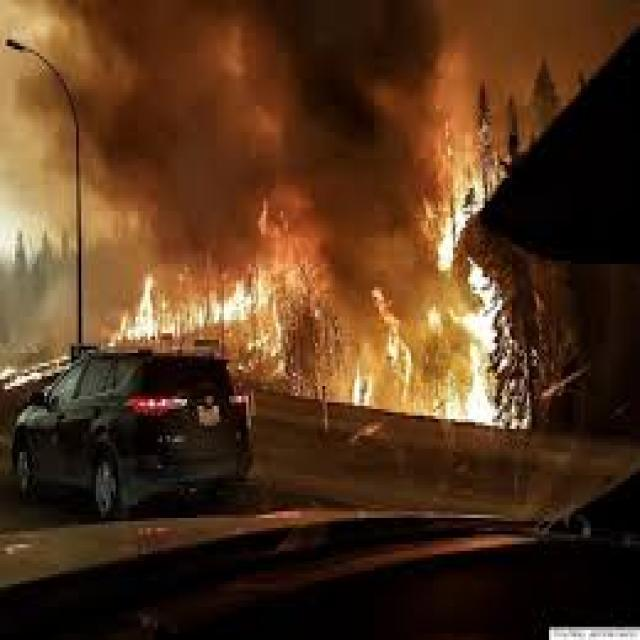Fire: (440, 163, 508, 449), (112, 274, 268, 340), (368, 289, 439, 412), (0, 352, 51, 397), (348, 362, 376, 411)
Smoke: (71, 0, 442, 290)
